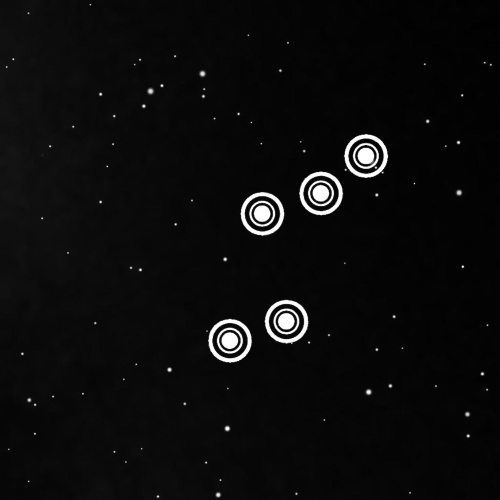lyra: (192, 119, 401, 376)
